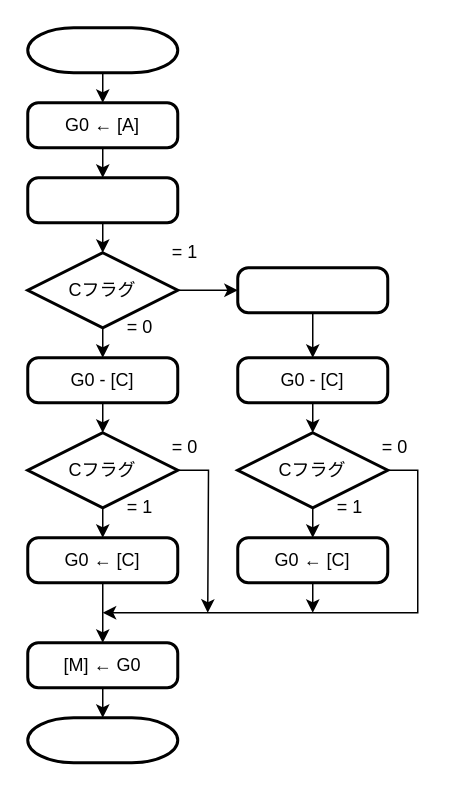
The diagram is 456 pixels wide and 789 high, and some of its shapes have lost their labels. Here are the shapes that lost their labels. From the top down, the box of each, then its label:
(26, 26, 178, 74): START
(26, 176, 178, 224): G0 - [B]
(236, 266, 388, 314): G0 ← [B]
(26, 716, 178, 764): END
